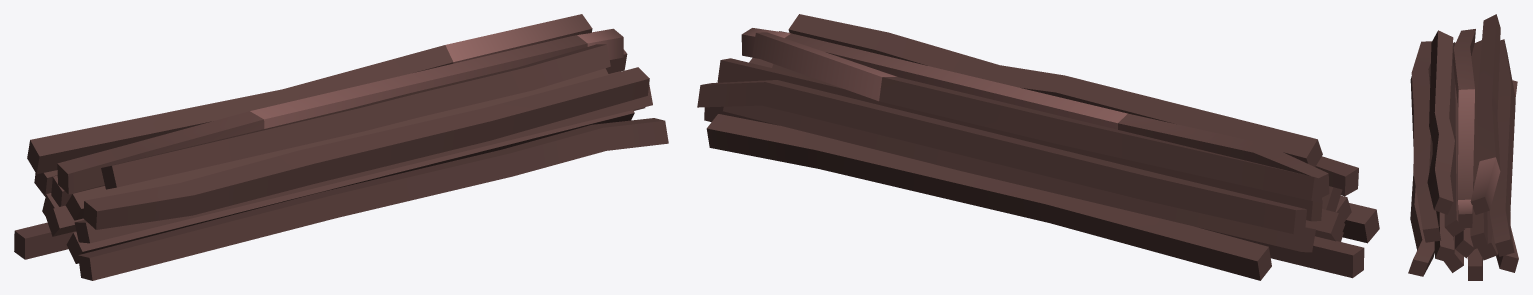
The model's file is SM_Prop_SugarCane_Pile_01.glb.
3 views of the same model, side by side, from view 1: azimuth 30°, elevation 25°; view 2: azimuth 150°, elevation 25°; view 3: azimuth 270°, elevation 25° (orthographic). The views are drawn at different scales.
Parts seen in each view (by area): view 1: SM_Prop_SugarCane_Pile_01; view 2: SM_Prop_SugarCane_Pile_01; view 3: SM_Prop_SugarCane_Pile_01.
Boxes of the visible parts, x1,y1,x2,y2 form: SM_Prop_SugarCane_Pile_01: (14,14,668,280); SM_Prop_SugarCane_Pile_01: (697,14,1379,280); SM_Prop_SugarCane_Pile_01: (1408,14,1518,280).
Size of the model in its own units: 0.0204 by 0.00323 by 0.00459.
